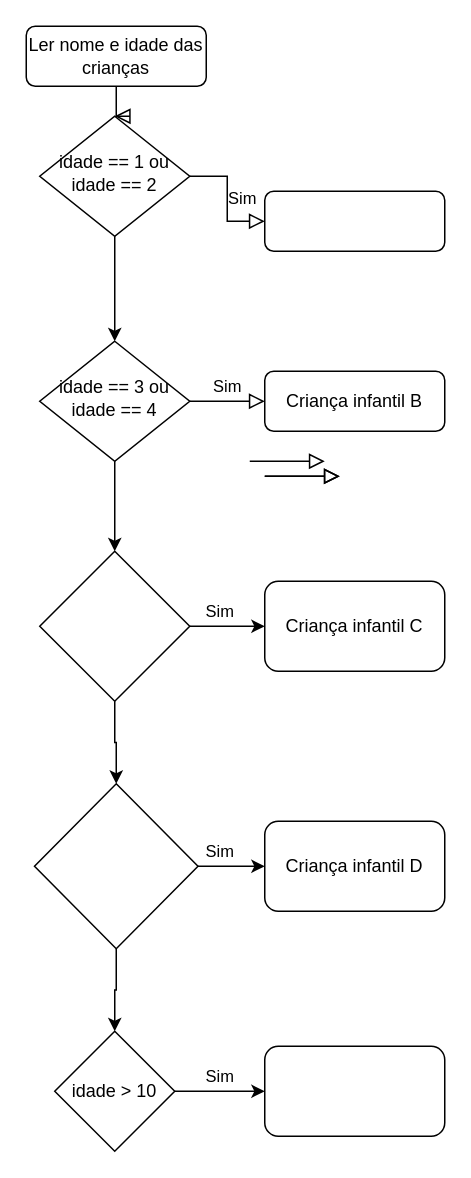
This 471x1178 diagram has some shape labels left out. Here are the shapes that lost their labels. From the top down, the centre of each, then its label:
At (354,220): "Criança infantil A".
At (114,625): "idade == 5 ou idade == 6".
At (115,865): "idade >= 7 e idade <=10".
At (354,1090): "idade fora da faixa etária".
